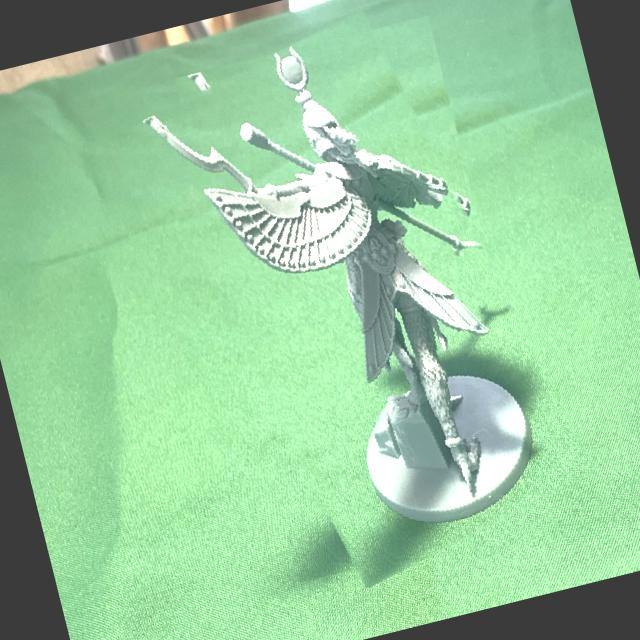isis: (145, 0, 582, 599)
